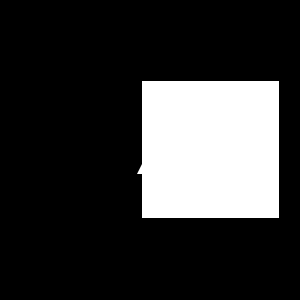circle: (142, 81, 279, 218)
triangle: (137, 100, 211, 174)
